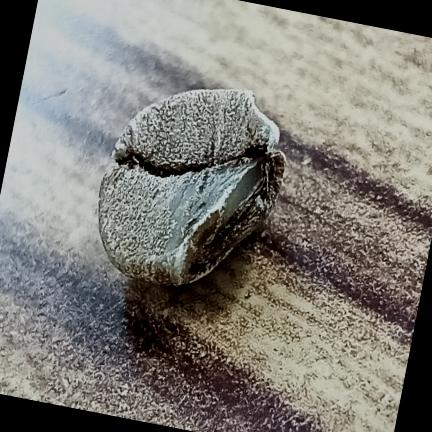cut: (99, 89, 286, 285)
